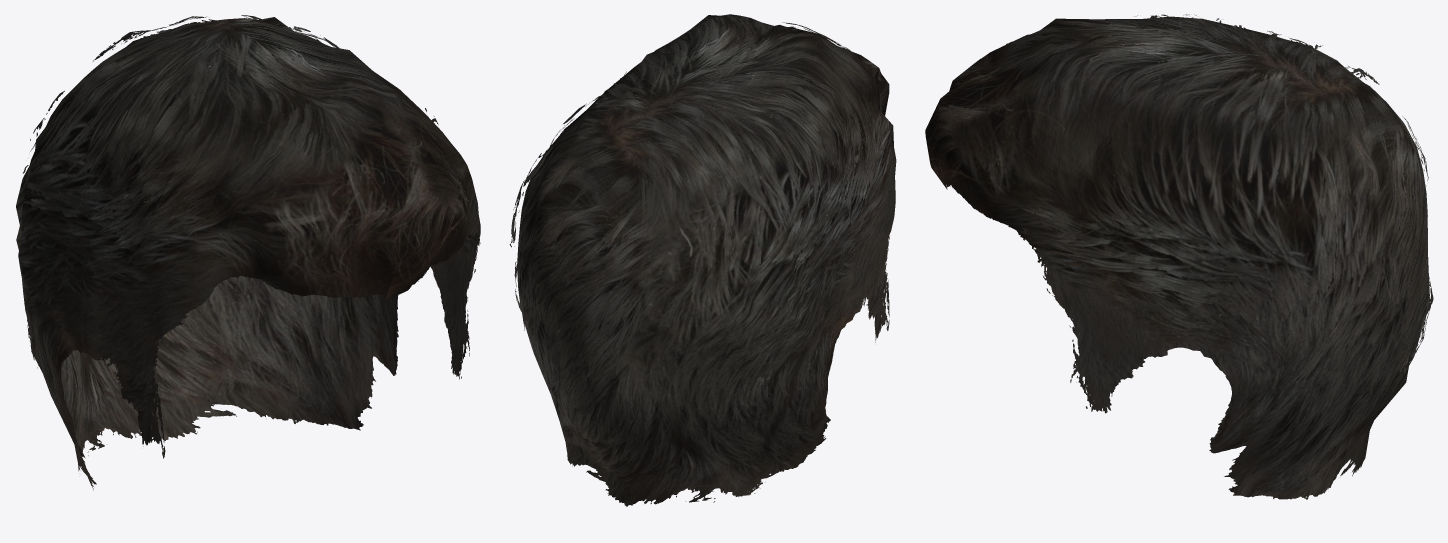
The model's file is mh_culturalibre_hair_02.glb.
3 renders of one model, left to right at view 1: azimuth 30°, elevation 25°; view 2: azimuth 150°, elevation 25°; view 3: azimuth 270°, elevation 25°, orthographic. The views are drawn at different scales.
Visible parts, largest first — view 1: mh_culturalibre_hair_02; view 2: mh_culturalibre_hair_02; view 3: mh_culturalibre_hair_02.
Part boxes in pixels (x1,y1,x2,y2): mh_culturalibre_hair_02: (16, 15, 480, 490); mh_culturalibre_hair_02: (509, 14, 896, 506); mh_culturalibre_hair_02: (925, 14, 1433, 499).
Size of the model in its own units: 0.1642 by 0.218 by 0.222.
Materials: 1 (1 with a texture image).
